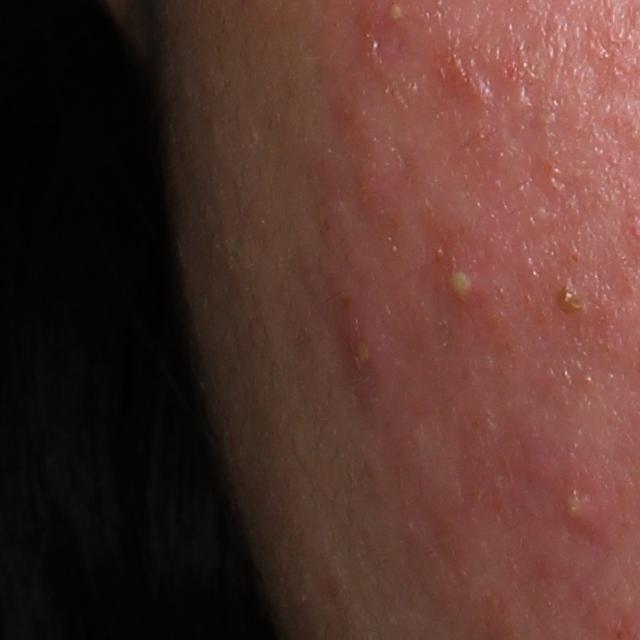pustule: (546, 452, 628, 549), (333, 295, 389, 397), (435, 252, 494, 316), (548, 275, 591, 328)
